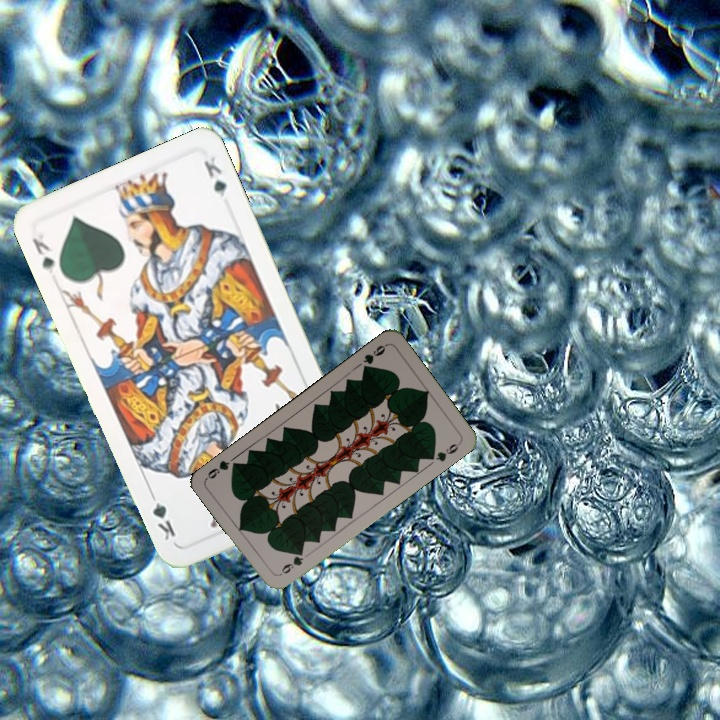G9: (359, 340, 390, 374), (275, 547, 306, 578)
GK: (28, 229, 57, 277)
